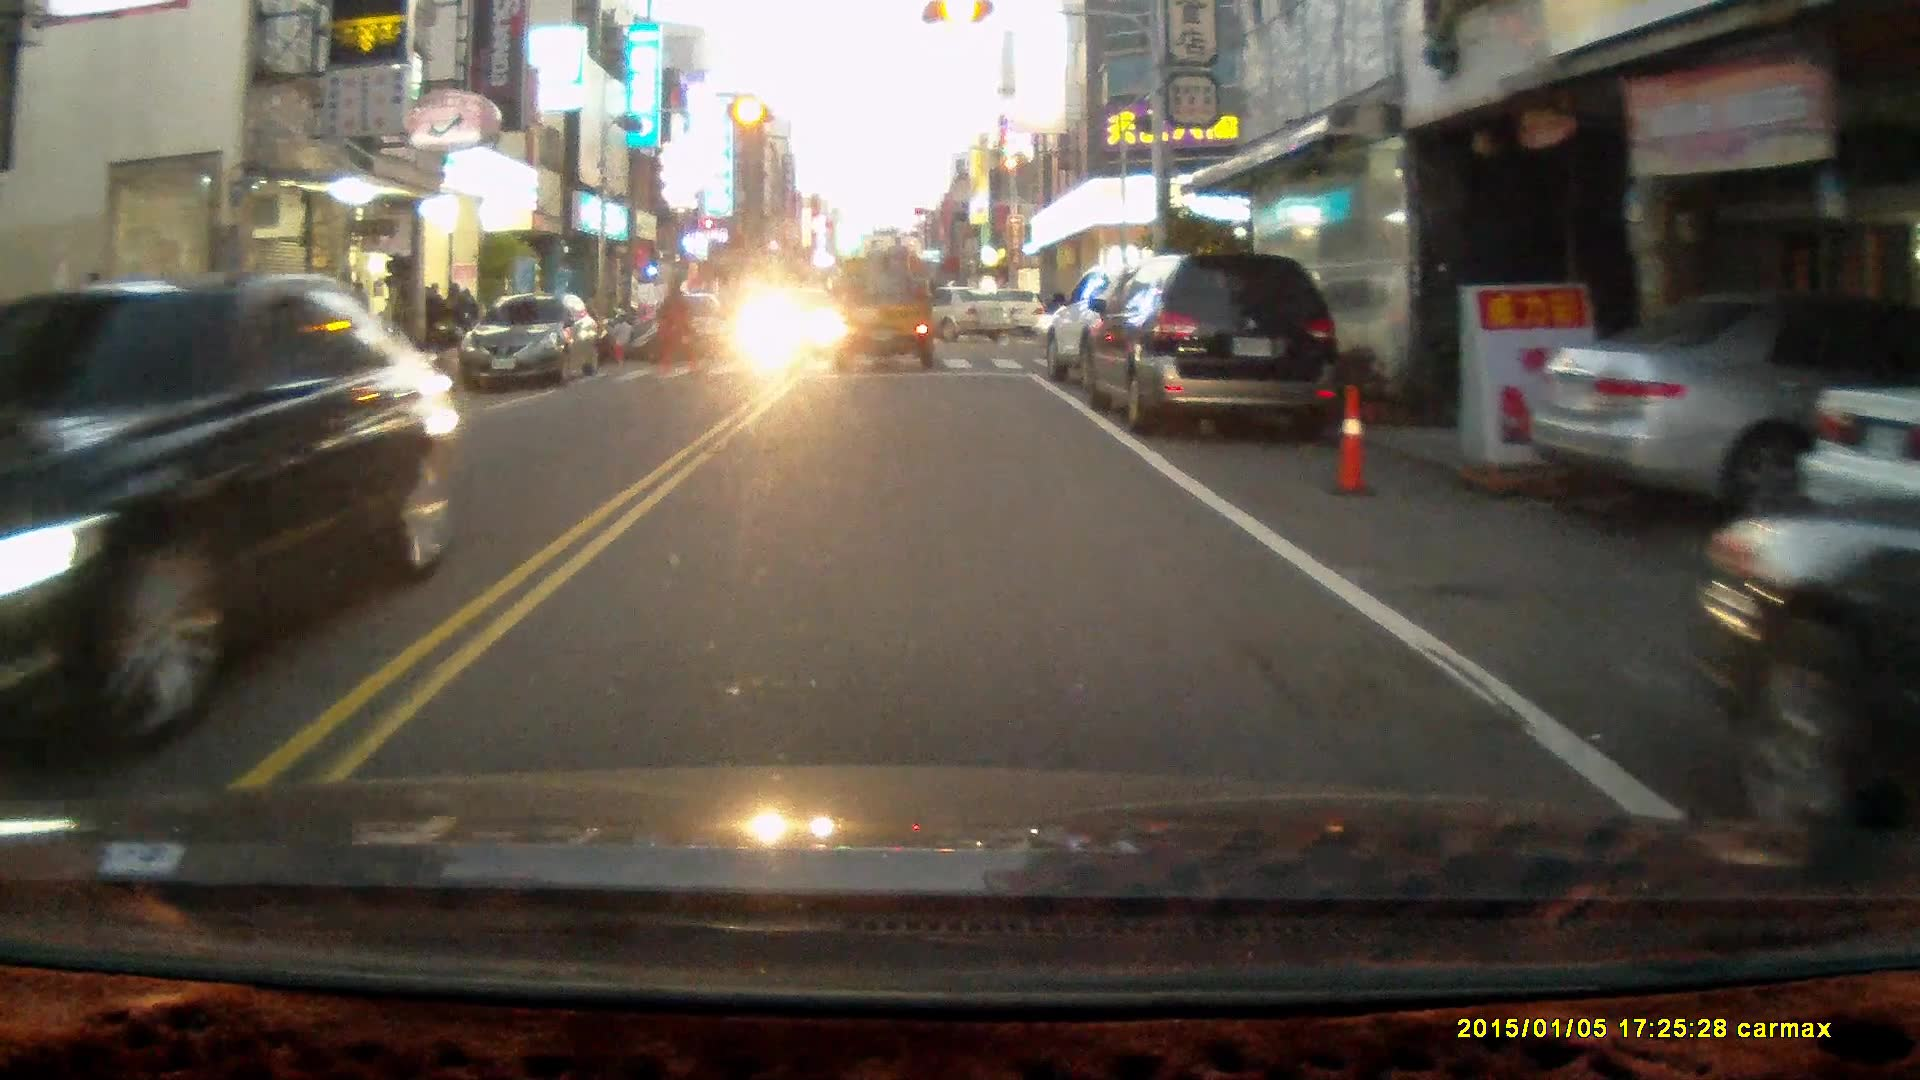pedestrian: (655, 275, 691, 377), (607, 315, 632, 368)
vehicle: (5, 273, 468, 744), (1527, 293, 1920, 526), (1689, 478, 1920, 866), (1080, 248, 1340, 440), (1043, 259, 1221, 407), (1797, 385, 1920, 553), (827, 236, 940, 379), (480, 297, 600, 392), (864, 287, 1011, 344), (645, 298, 737, 362)
